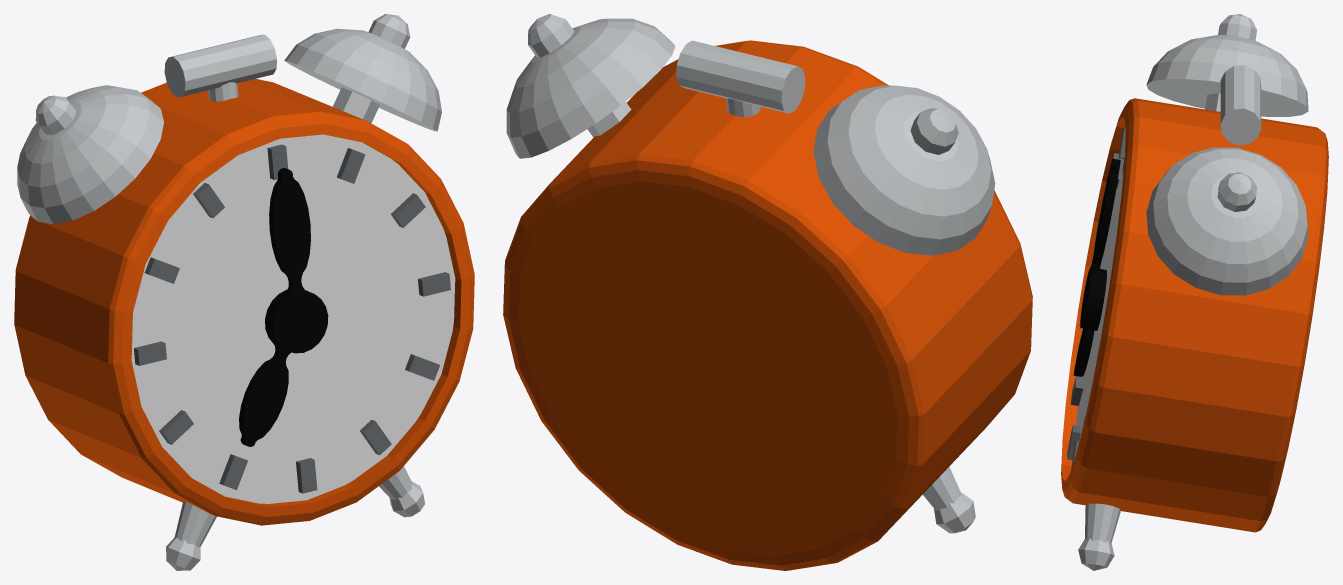
The model's file is clock.glb.
3 views of the same model, side by side, from view 1: azimuth 30°, elevation 25°; view 2: azimuth 150°, elevation 25°; view 3: azimuth 270°, elevation 25° (orthographic). The views are drawn at different scales.
Parts seen in each view (by area): view 1: Mesh_Mesh_head_geo.001_lambert2SG.001; view 2: Mesh_Mesh_head_geo.001_lambert2SG.001; view 3: Mesh_Mesh_head_geo.001_lambert2SG.001.
Boxes of the visible parts, box(x1,y1,x2,y2) form: Mesh_Mesh_head_geo.001_lambert2SG.001: box(14, 14, 474, 570); Mesh_Mesh_head_geo.001_lambert2SG.001: box(503, 14, 1032, 570); Mesh_Mesh_head_geo.001_lambert2SG.001: box(1061, 14, 1328, 570).
Size of the model in its own units: 0.1373 by 0.1445 by 0.0818.
